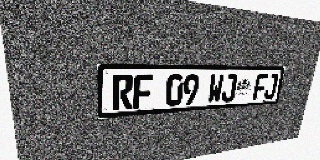0: (165, 74, 184, 107)
9: (182, 74, 200, 105)
F: (133, 74, 153, 109), (252, 74, 268, 100)
J: (221, 74, 238, 102), (263, 74, 279, 99)
R: (113, 74, 133, 110)
W: (207, 74, 224, 103)
